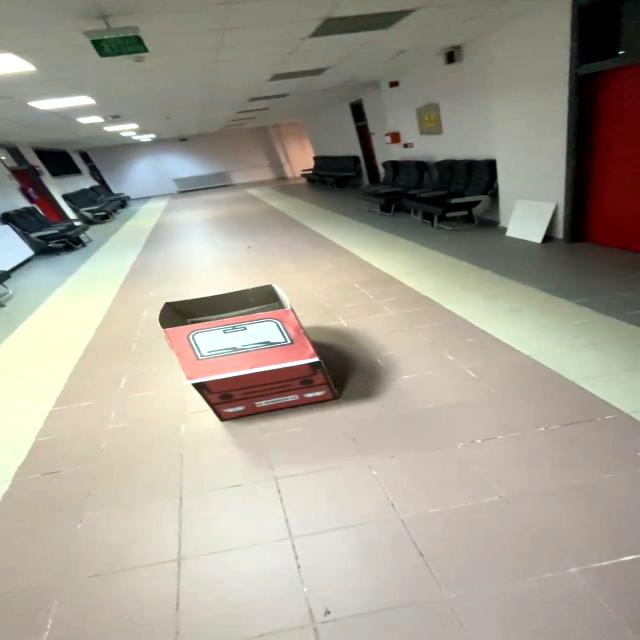red_car: (137, 275, 357, 431)
